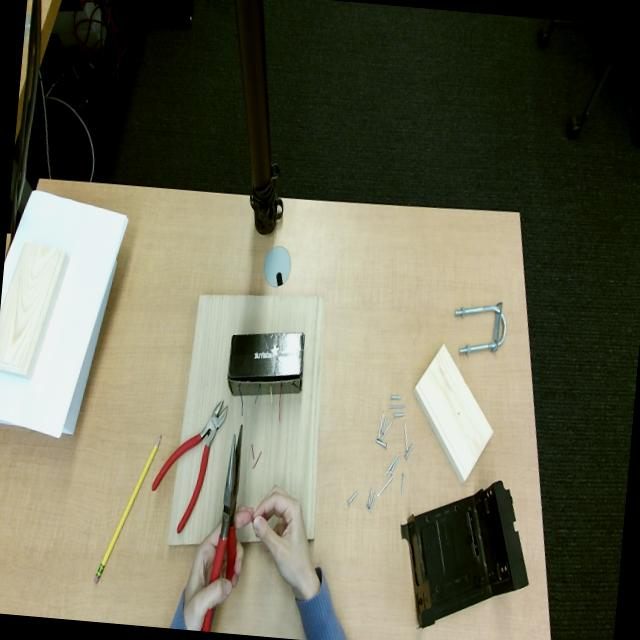pliers: (152, 402, 227, 533), (210, 426, 242, 583), (202, 608, 213, 631)
